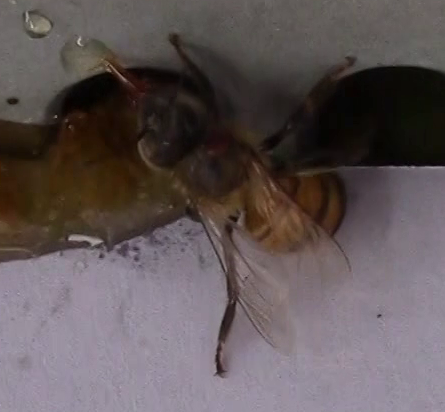Varroa destructor: (203, 128, 234, 154)
